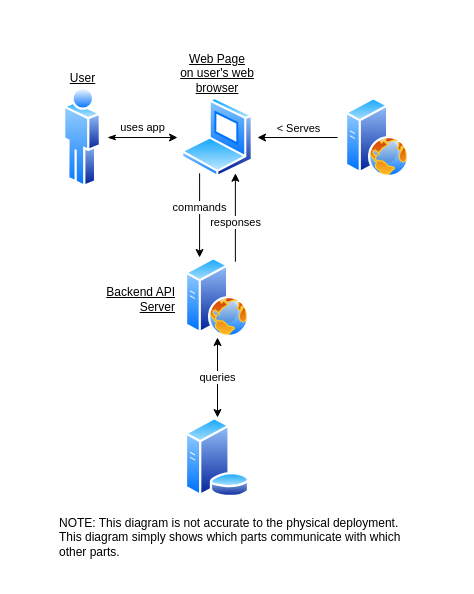
Image size: 474x594. Some labels were removed from this diagram. The shapes that lost their labels are listed below. From the top down, each one's centre as x and y in pixels, then its label:
At (x=377, y=137): "Frontend Web Page Server".
At (x=217, y=457): "Database Server".
